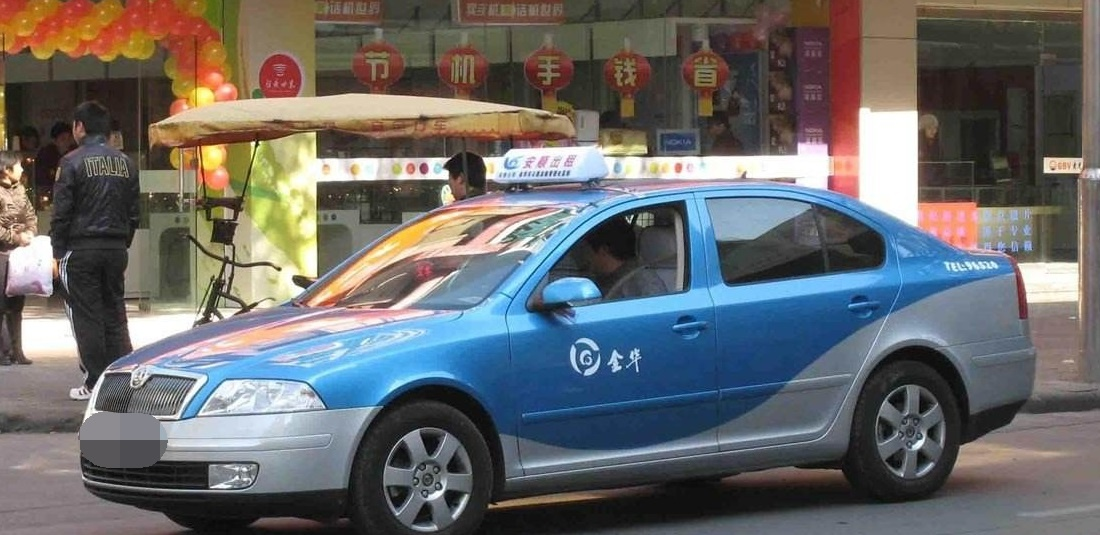taxi: (95, 151, 1040, 526)
